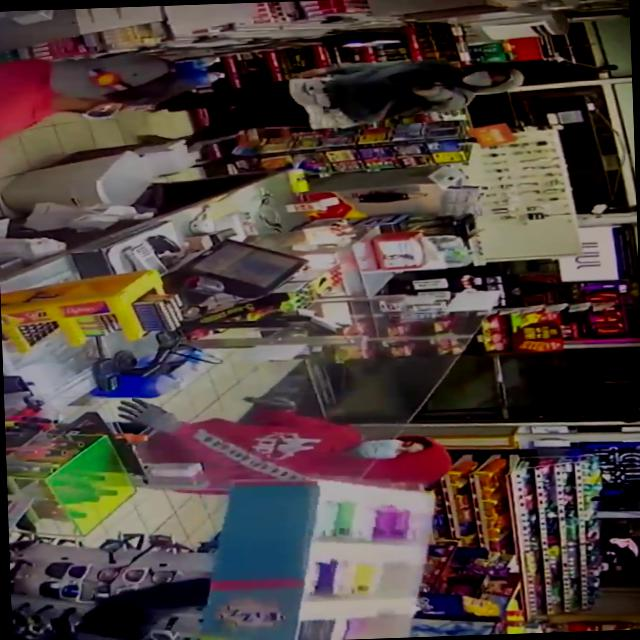handgun: (234, 380, 305, 420), (389, 75, 469, 98)
